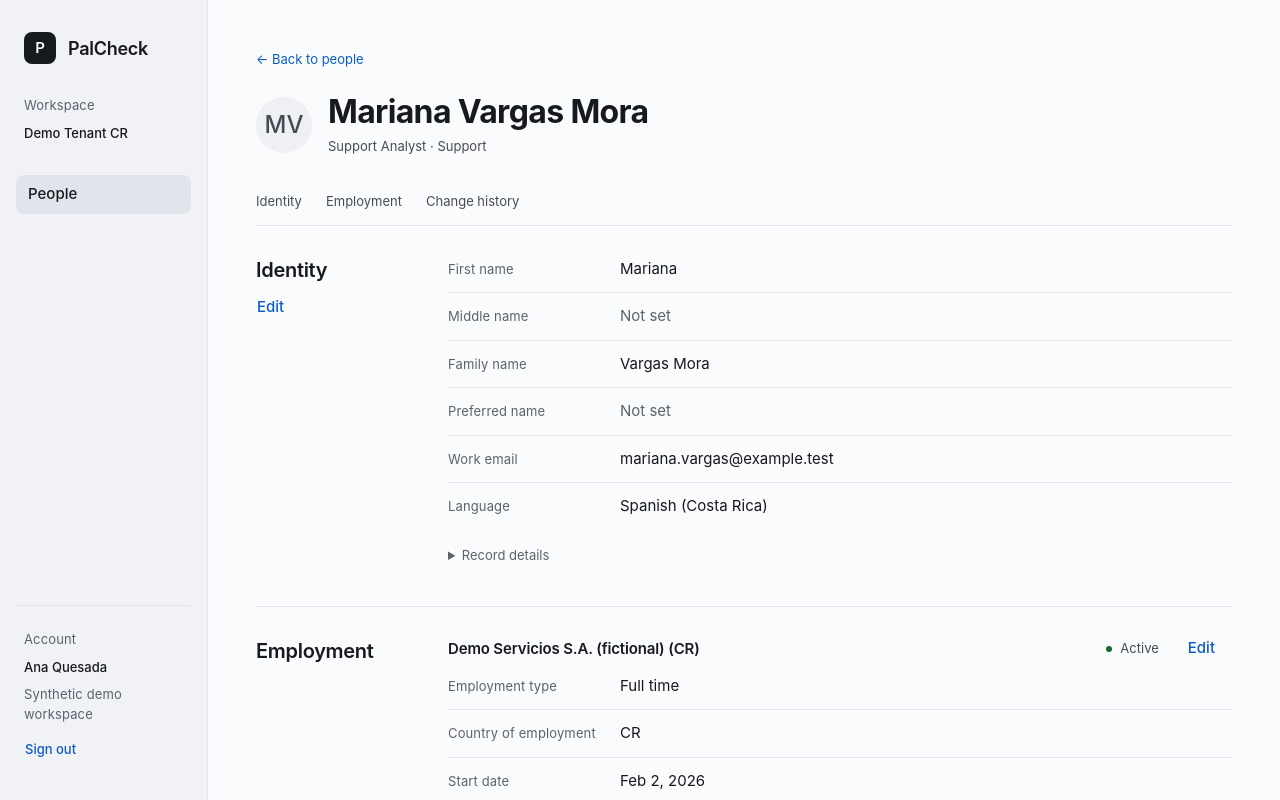
Test: Person detail › editing identity › lets the person cancel without sending anything
The image size is (1280, 800).
Click the button with aria-label "Edit identity" at (271, 308), box left=240, top=290, right=301, bottom=326
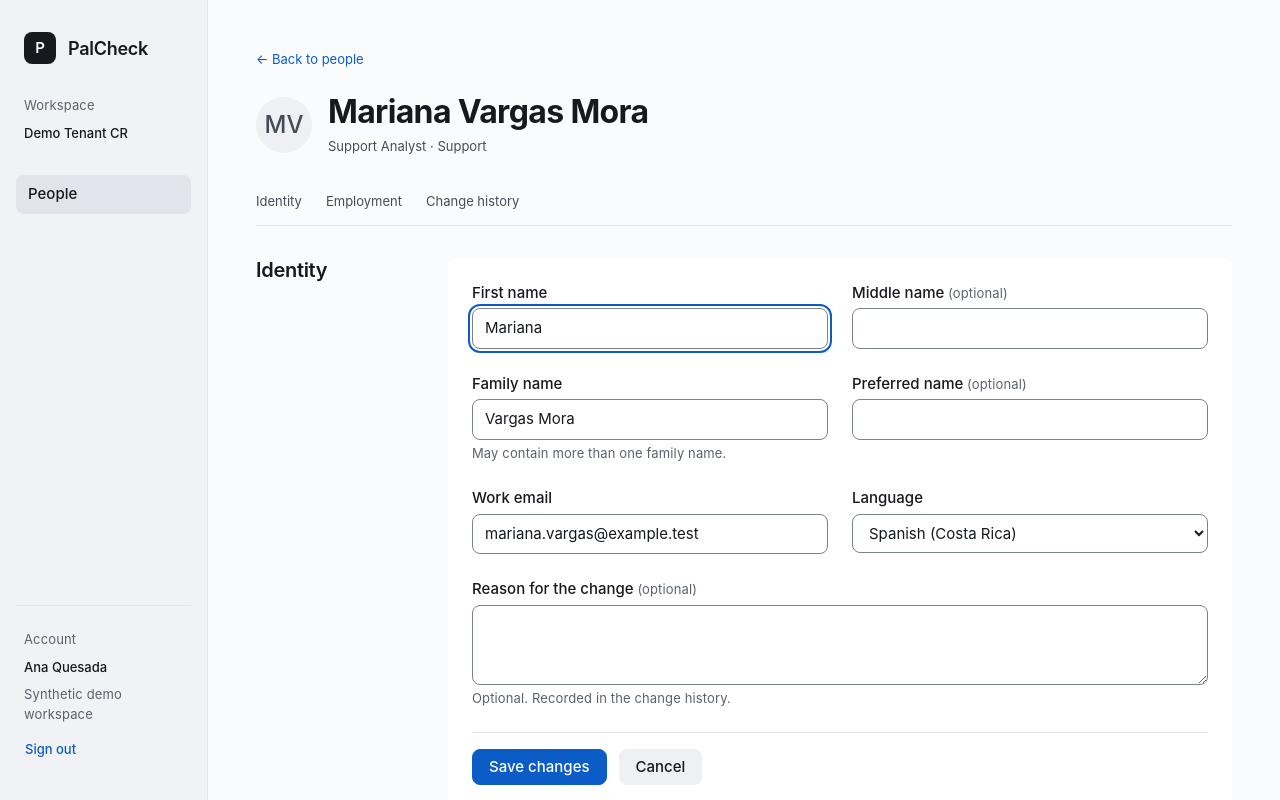
Click the button "Cancel" at (660, 767), box left=618, top=749, right=702, bottom=785
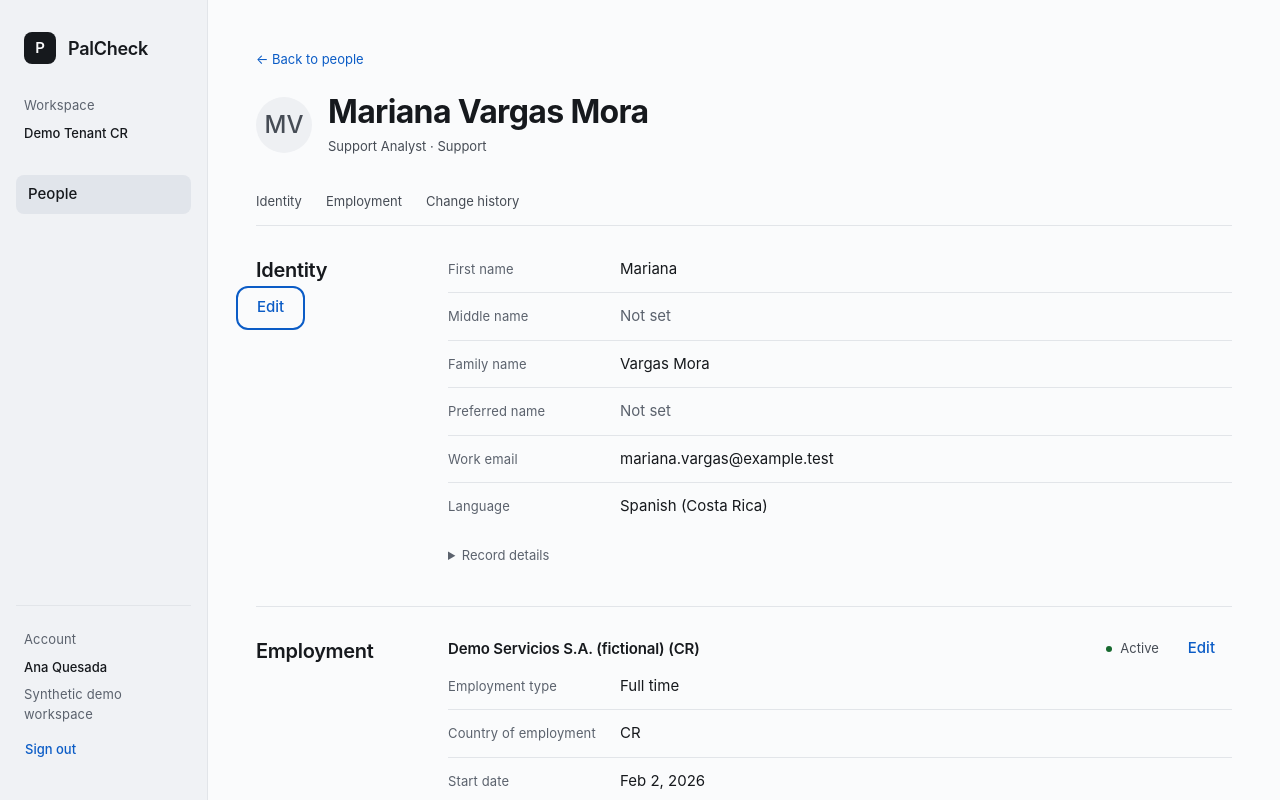
Result: the button with aria-label "Edit identity" is shown at left=240, top=290, right=301, bottom=326
